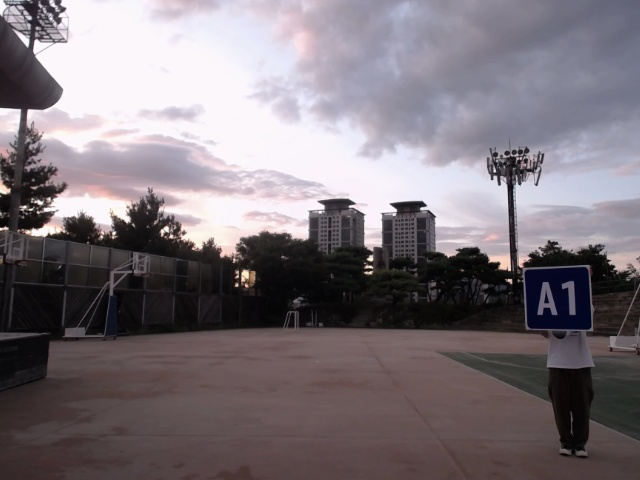delivery_a1: (523, 266, 592, 331)
